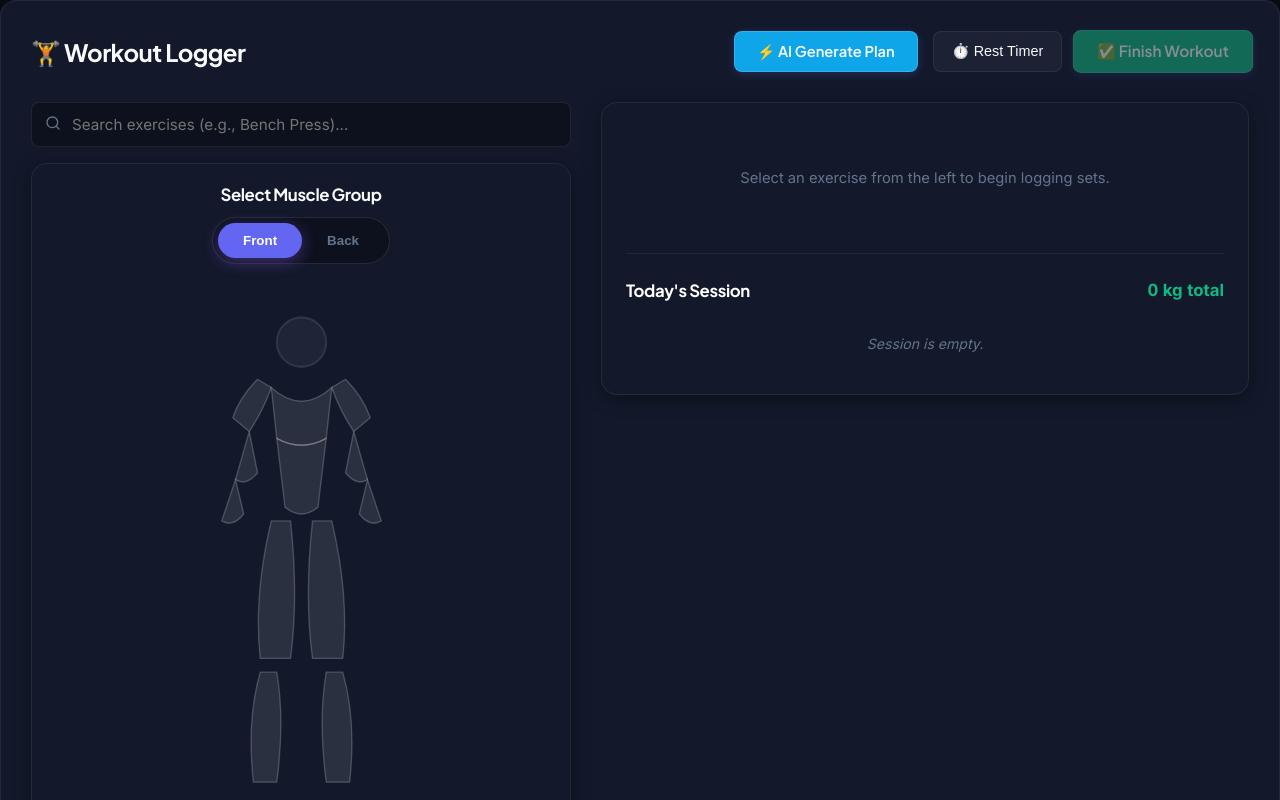
Test: WorkoutLogger Component › filters exercise database based on search query
Type "Bench Press" into the field with placeholder "Search exercises (e.g., Bench Press)..." at [301, 124], box [31,102,571,147]
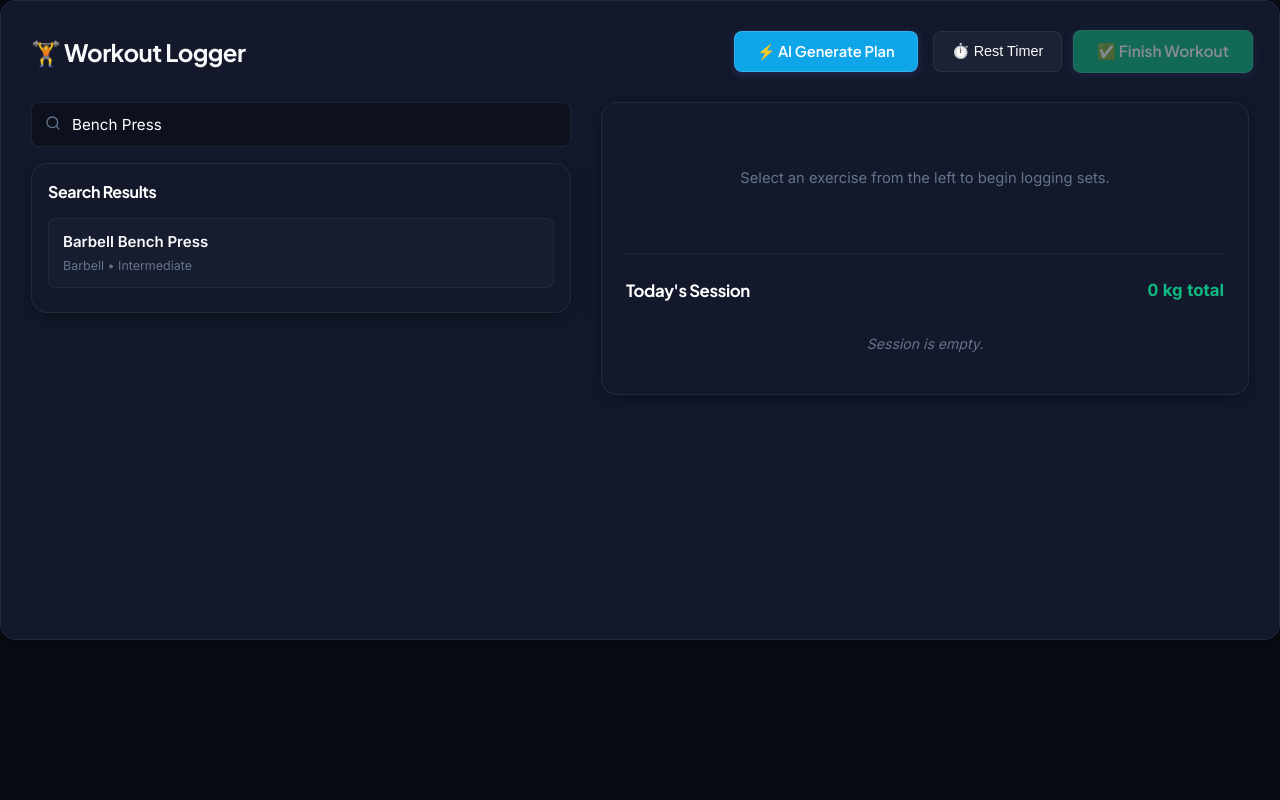
Expected: the text "Barbell Bench Press" is shown, [63,231,208,254]
